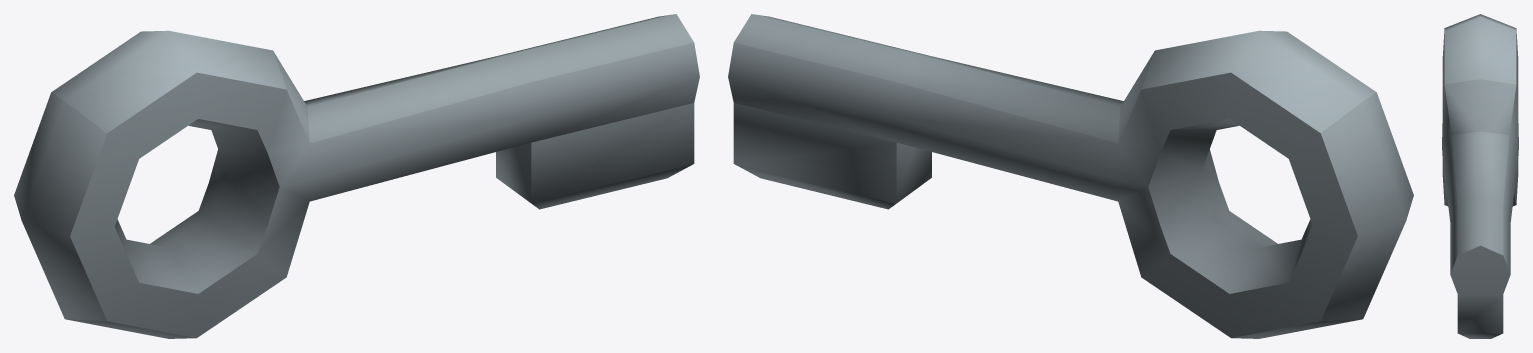
Rendered from dungeon-key.glb.
3 renders of one model, left to right at view 1: azimuth 30°, elevation 25°; view 2: azimuth 150°, elevation 25°; view 3: azimuth 270°, elevation 25°, orthographic. The views are drawn at different scales.
Parts seen in each view (by area): view 1: dungeon-key; view 2: dungeon-key; view 3: dungeon-key.
Boxes of the visible parts, x1,y1,x2,y2 form: dungeon-key: (14,14,699,338); dungeon-key: (728,14,1413,338); dungeon-key: (1442,14,1518,338).
Bounding box in the file's own units: 0.6717 × 0.3021 × 0.1064.
1 material, 1 textured.
